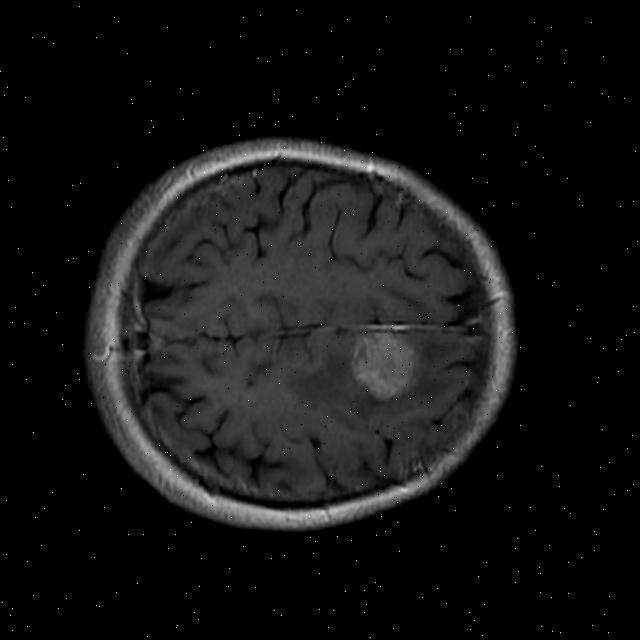Meningioma: (348, 327, 423, 401)
